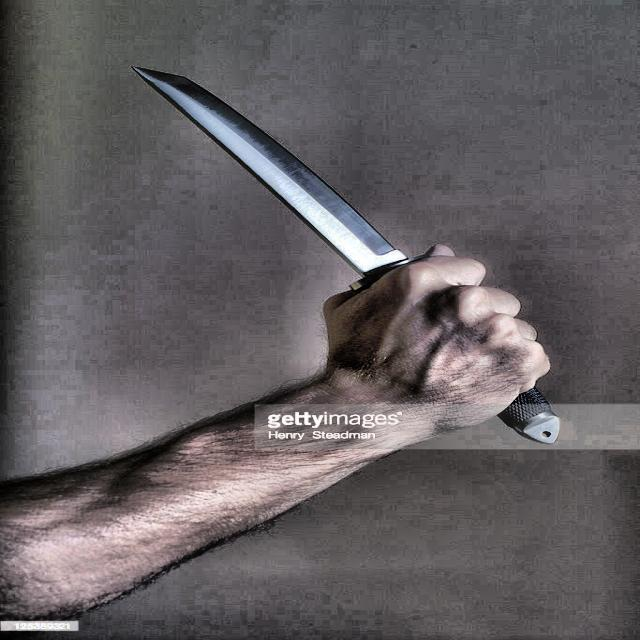knife: (140, 68, 562, 444)
